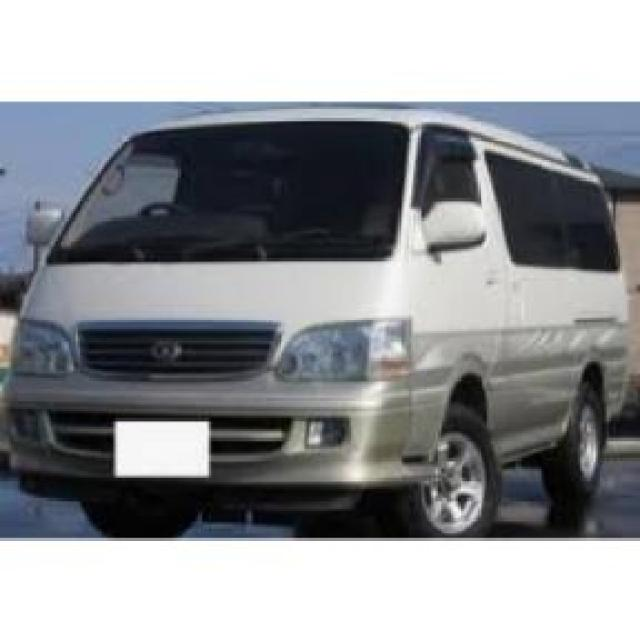Van: (4, 109, 629, 528)
